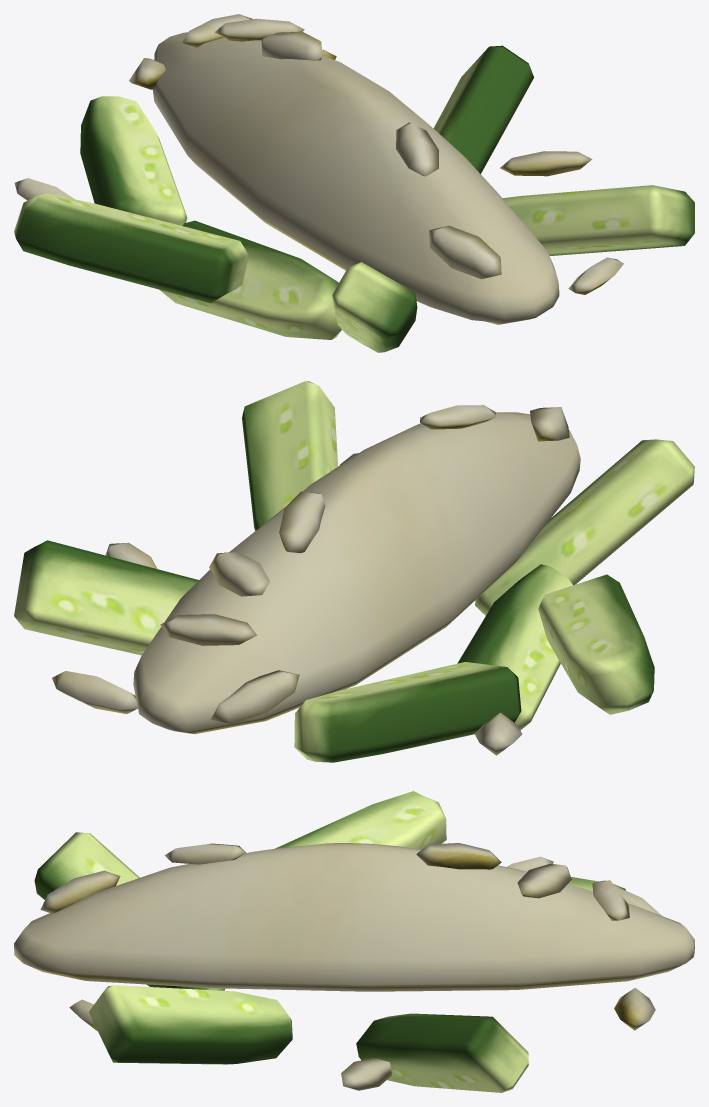
File: m_plated_rice_cucumber_01.fbx
The picture shows the model from 3 angles, top to bottom: view 1: azimuth 30°, elevation 25°; view 2: azimuth 150°, elevation 25°; view 3: azimuth 270°, elevation 25°; orthographic projection. The views are drawn at different scales.
Parts seen in each view (by area): view 1: m_plated_rice_cucumber_01_0, m_plated_rice_cucumber_01_1; view 2: m_plated_rice_cucumber_01_0, m_plated_rice_cucumber_01_1; view 3: m_plated_rice_cucumber_01_0, m_plated_rice_cucumber_01_1.
Part boxes in pixels (x1,y1,x2,y2): m_plated_rice_cucumber_01_0: [14, 14, 623, 324]; m_plated_rice_cucumber_01_1: [14, 45, 694, 352]; m_plated_rice_cucumber_01_0: [52, 405, 580, 755]; m_plated_rice_cucumber_01_1: [14, 381, 694, 762]; m_plated_rice_cucumber_01_0: [14, 843, 694, 1090]; m_plated_rice_cucumber_01_1: [34, 791, 625, 1092].
Bounding box in the file's own units: 0.8881 × 0.3204 × 1.01.
Materials: 2 (2 with a texture image).
